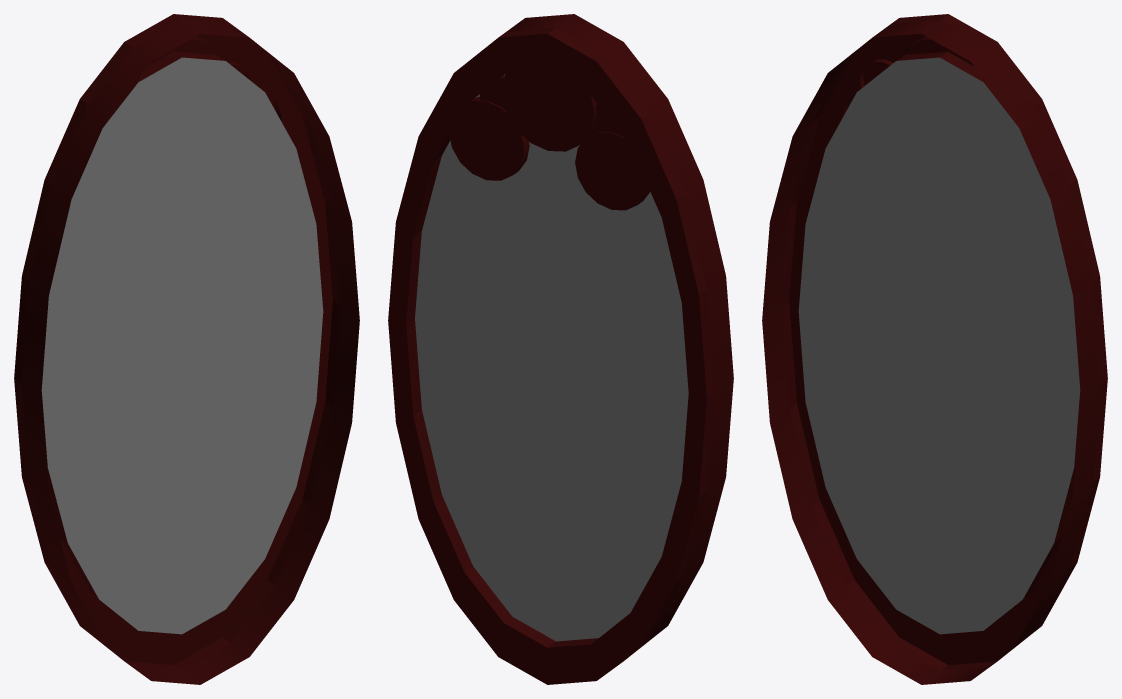
File: mirror.fbx
3 renders of one model, left to right at view 1: azimuth 30°, elevation 25°; view 2: azimuth 150°, elevation 25°; view 3: azimuth 330°, elevation 25°, orthographic.
Visible parts, largest first — view 1: pCylinder7 (×2); view 2: pCylinder7 (×2); view 3: pCylinder7 (×2).
Part boxes in pixels (x1,y1,x2,y2): pCylinder7 (×2): (14, 14, 359, 684); pCylinder7 (×2): (388, 14, 733, 684); pCylinder7 (×2): (762, 14, 1107, 684).
Size of the model in its own units: 3.37 by 6.59 by 0.495.
